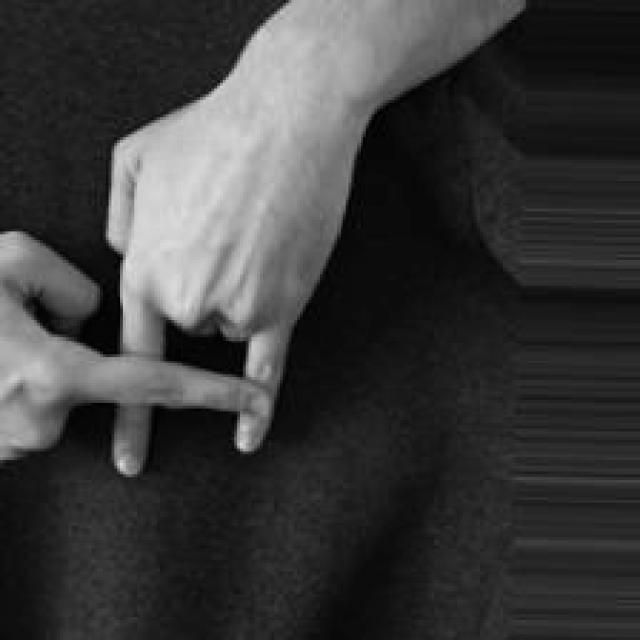H: (0, 54, 376, 483)
